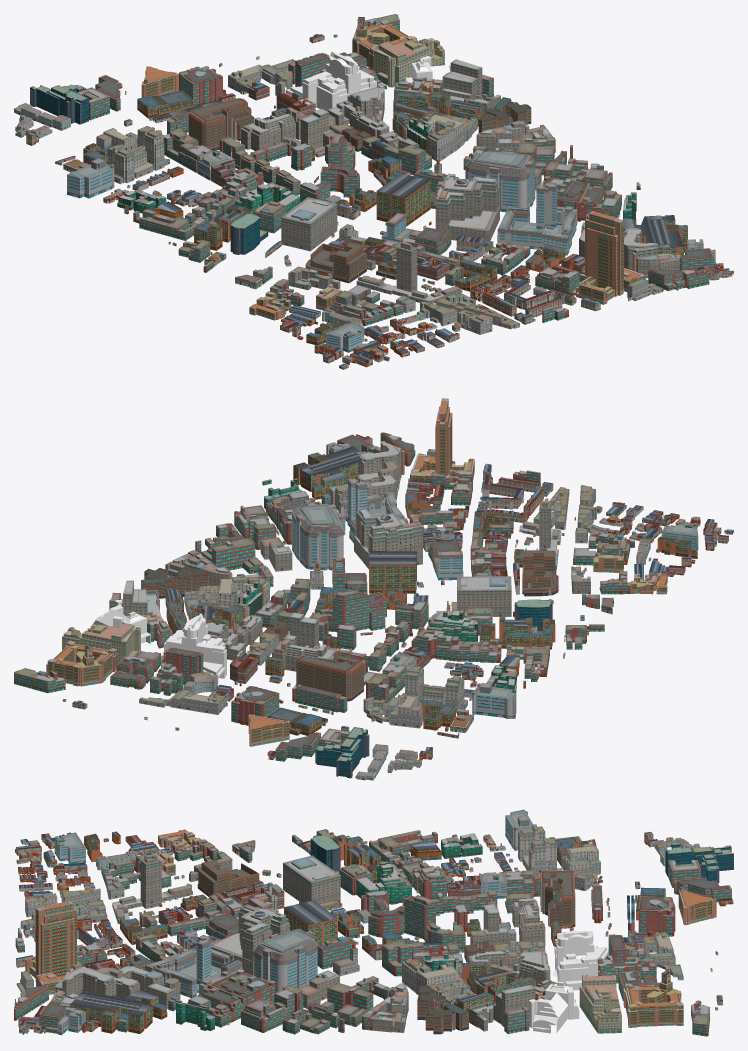
3 views of the same model, one above another, from view 1: azimuth 30°, elevation 25°; view 2: azimuth 150°, elevation 25°; view 3: azimuth 270°, elevation 25° (orthographic). The views are drawn at different scales.
Parts seen in each view (by area): view 1: Buildings_0_202233232221333_buildings_01_INDEX0, Buildings_2_202233232221332_buildings_01_INDEX0, Buildings_1_202233232221332_landmark_gb_ldn_fenchurchstation, Buildings_0_202233232221332_landmark_gb_ldn_fenchurchstation; view 2: Buildings_2_202233232221332_buildings_01_INDEX0, Buildings_0_202233232221333_buildings_01_INDEX0, Buildings_1_202233232221332_landmark_gb_ldn_fenchurchstation, Buildings_0_202233232221332_landmark_gb_ldn_fenchurchstation; view 3: Buildings_0_202233232221333_buildings_01_INDEX0, Buildings_2_202233232221332_buildings_01_INDEX0, Buildings_1_202233232221332_landmark_gb_ldn_fenchurchstation, Buildings_0_202233232221332_landmark_gb_ldn_fenchurchstation.
Part boxes in pixels (left/top/right/bottom): Buildings_0_202233232221333_buildings_01_INDEX0: left=168, top=133, right=733, bottom=369; Buildings_2_202233232221332_buildings_01_INDEX0: left=14, top=14, right=552, bottom=240; Buildings_1_202233232221332_landmark_gb_ldn_fenchurchstation: left=285, top=51, right=413, bottom=111; Buildings_0_202233232221332_landmark_gb_ldn_fenchurchstation: left=411, top=56, right=450, bottom=80; Buildings_2_202233232221332_buildings_01_INDEX0: left=14, top=554, right=549, bottom=780; Buildings_0_202233232221333_buildings_01_INDEX0: left=186, top=398, right=733, bottom=658; Buildings_1_202233232221332_landmark_gb_ldn_fenchurchstation: left=141, top=613, right=226, bottom=685; Buildings_0_202233232221332_landmark_gb_ldn_fenchurchstation: left=93, top=600, right=146, bottom=643; Buildings_0_202233232221333_buildings_01_INDEX0: left=14, top=829, right=380, bottom=1035; Buildings_2_202233232221332_buildings_01_INDEX0: left=356, top=809, right=733, bottom=1036; Buildings_1_202233232221332_landmark_gb_ldn_fenchurchstation: left=553, top=930, right=608, bottom=1002; Buildings_0_202233232221332_landmark_gb_ldn_fenchurchstation: left=528, top=981, right=579, bottom=1033.
Size of the model in its own units: 65767 by 11405 by 96683.
